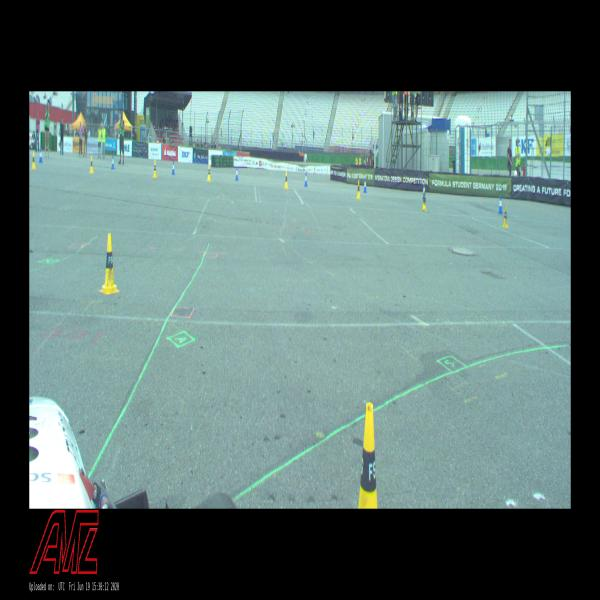blue_cone: (498, 195, 502, 213), (111, 154, 115, 169), (422, 183, 425, 199), (304, 172, 307, 187), (235, 167, 238, 180), (39, 149, 42, 162), (172, 162, 175, 174), (364, 177, 366, 193)
yellow_cone: (359, 403, 377, 507), (100, 234, 120, 292), (503, 206, 508, 228), (90, 155, 94, 174), (207, 165, 211, 181), (153, 161, 157, 177), (284, 172, 288, 188), (32, 152, 36, 168), (357, 180, 360, 198), (423, 191, 426, 209)
